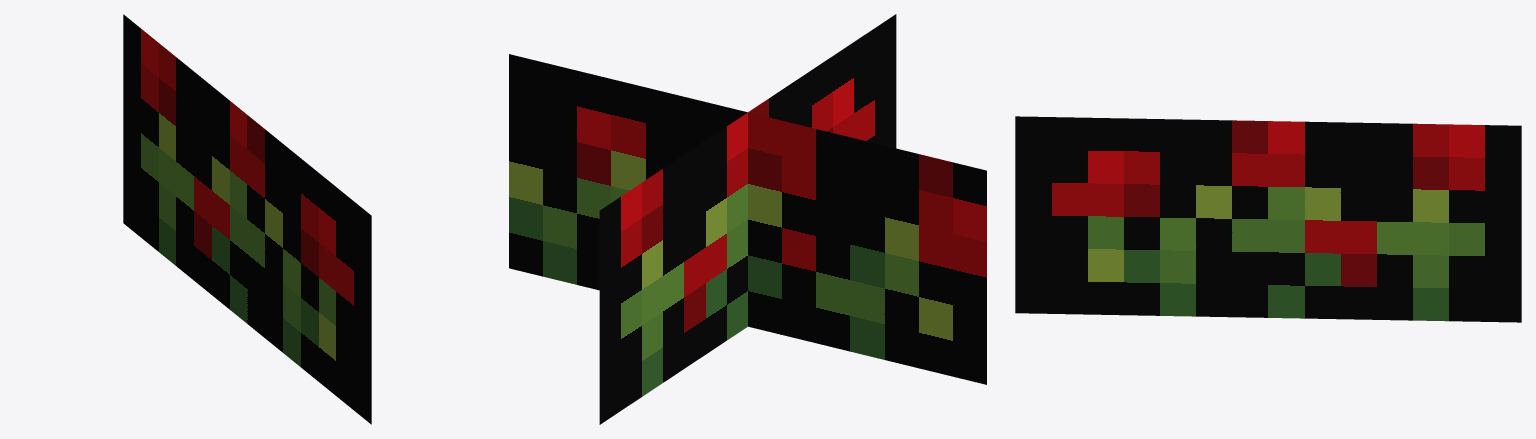
File: RoseSprout.fbx
3 views of the same model, side by side, from view 1: azimuth 30°, elevation 25°; view 2: azimuth 150°, elevation 25°; view 3: azimuth 270°, elevation 25° (orthographic). The views are drawn at different scales.
Visible parts, largest first — view 1: plane; view 2: plane; view 3: plane.
Part boxes in pixels (box(x1,y1,x2,y2)): plane: box(123, 14, 371, 424); plane: box(509, 14, 986, 424); plane: box(1015, 116, 1521, 322).
Bounding box in the file's own units: 87.5 × 37.5 × 87.42.
Materials: 1 (1 with a texture image).
